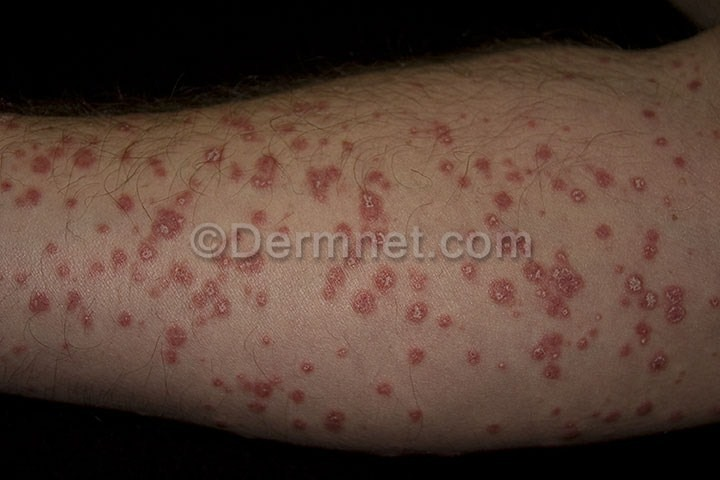Psoriasis: (25, 135, 709, 407)
